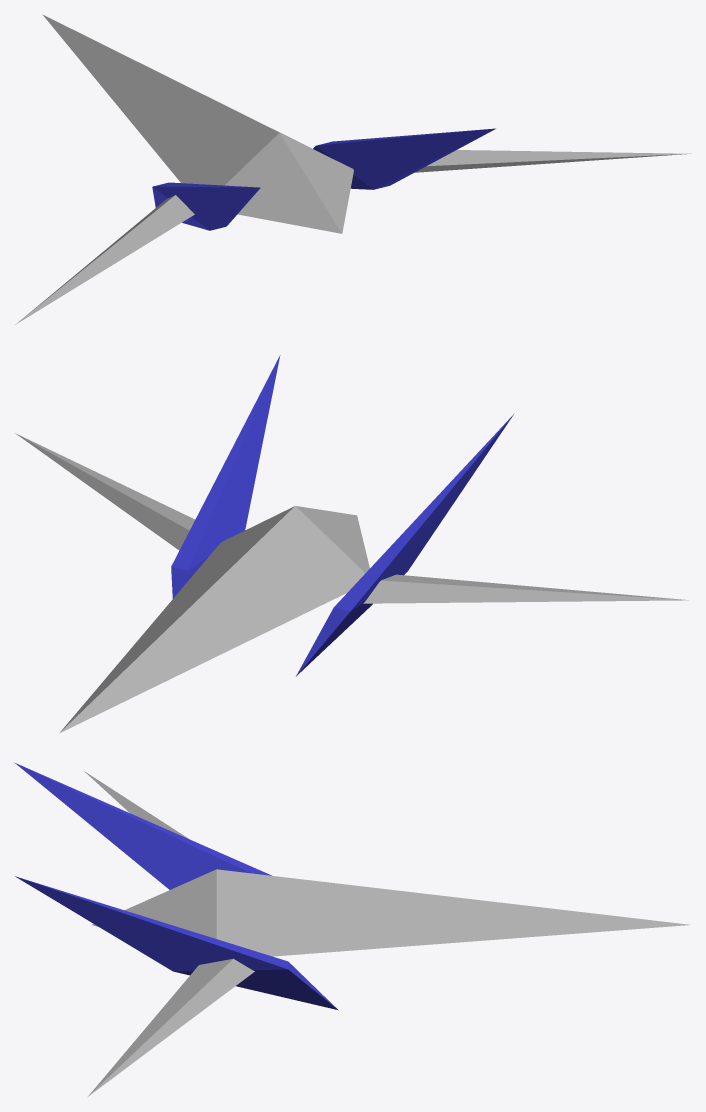
The model's file is Body 1.fbx.
3 views of the same model, one above another, from view 1: azimuth 30°, elevation 25°; view 2: azimuth 150°, elevation 25°; view 3: azimuth 270°, elevation 25° (orthographic).
Visible parts, largest first — view 1: Body, left-dec, right-wing, right-dec, left-wing; view 2: Body, left-dec, right-dec, right-wing, left-wing; view 3: Body, left-dec, right-dec, left-wing, right-wing.
Boxes of the visible parts, x1=… form: Body: x1=42, y1=14, x2=353, y2=233; left-dec: x1=313, y1=128, x2=495, y2=189; right-wing: x1=15, y1=195, x2=194, y2=324; right-dec: x1=152, y1=182, x2=260, y2=230; left-wing: x1=415, y1=150, x2=691, y2=172; Body: x1=59, y1=506, x2=369, y2=733; left-dec: x1=171, y1=355, x2=280, y2=598; right-dec: x1=296, y1=413, x2=514, y2=676; right-wing: x1=363, y1=574, x2=688, y2=603; left-wing: x1=15, y1=433, x2=195, y2=550; Body: x1=92, y1=869, x2=690, y2=956; left-dec: x1=15, y1=876, x2=338, y2=1010; right-dec: x1=14, y1=762, x2=271, y2=889; left-wing: x1=87, y1=958, x2=254, y2=1097; right-wing: x1=84, y1=771, x2=188, y2=838.
Bounding box in the file's own units: 207 × 47.31 × 179.
